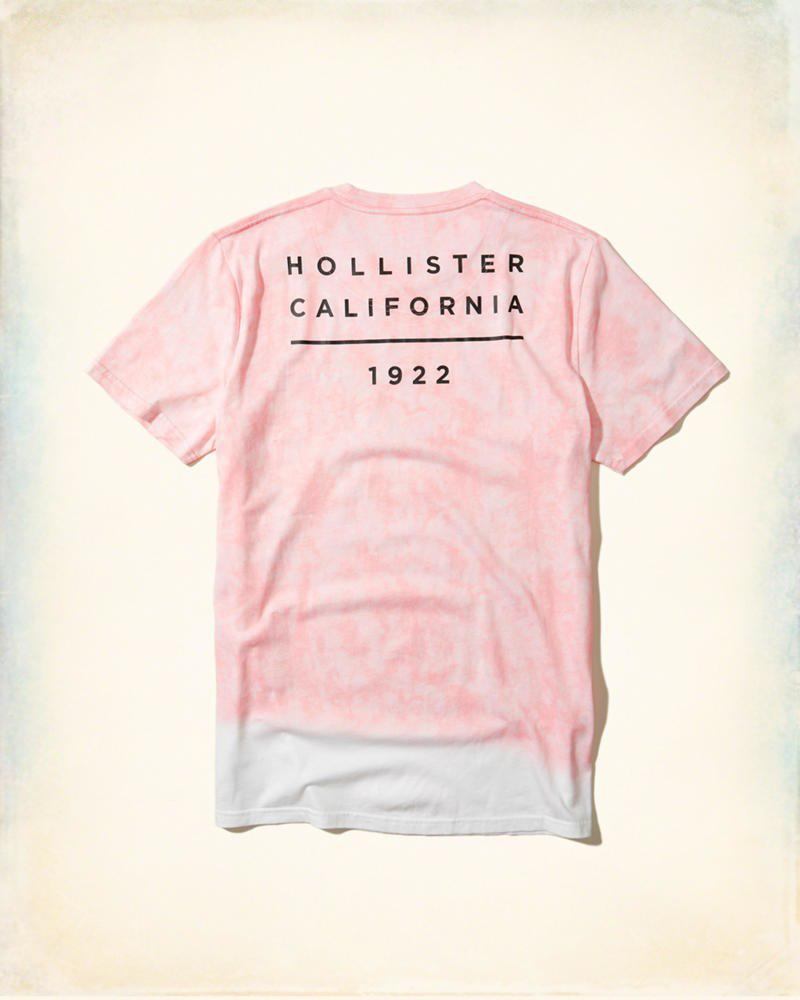teeshirt: (82, 168, 762, 886)
